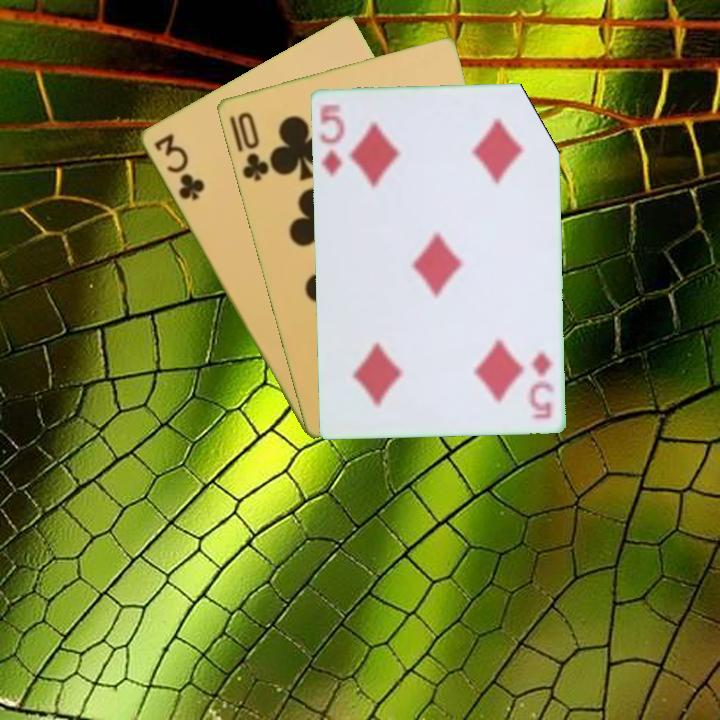10c: (233, 108, 272, 184)
3c: (150, 130, 207, 204)
5d: (315, 99, 347, 179), (526, 348, 557, 422)
